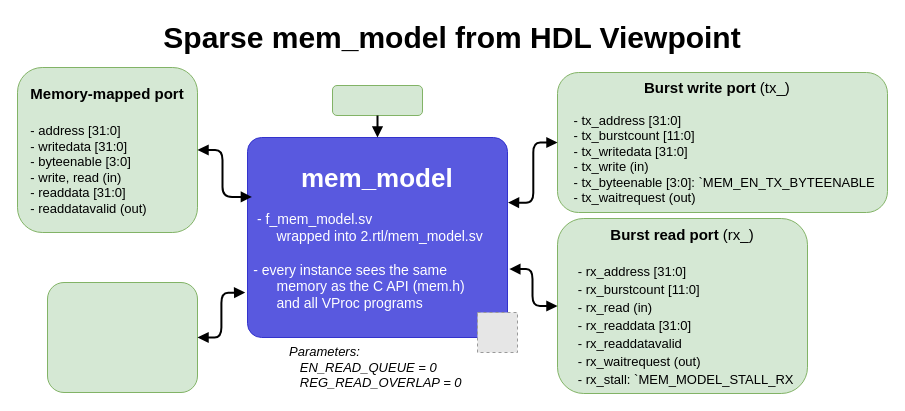
Image size: 905x411. Some labels were removed from this diagram. Grey dashed boxes stand in for pictures. Here are the shapes that lost their labels. From the top down, the box of each, then its label:
(332, 84, 422, 116): clk, rst_n
(46, 282, 198, 392): Write port - wr_port_addr [31:0] - wr_port_data [31:0] - wr_port_valid (in)
